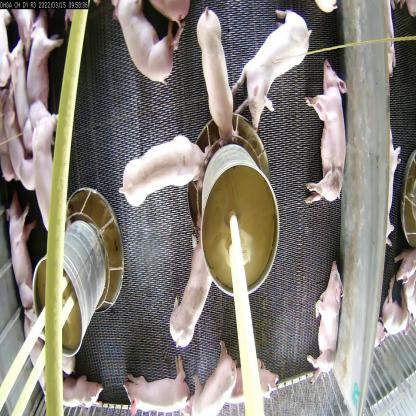Pig: (235, 8, 306, 141), (116, 131, 210, 210), (112, 0, 190, 86), (309, 59, 349, 203), (196, 6, 236, 149), (170, 236, 212, 349), (27, 109, 62, 234), (28, 16, 61, 134), (118, 366, 192, 415), (314, 258, 344, 376), (187, 345, 236, 415), (4, 191, 34, 295), (1, 111, 34, 203), (24, 305, 52, 407), (9, 52, 36, 148), (231, 363, 281, 413), (56, 372, 102, 416)
